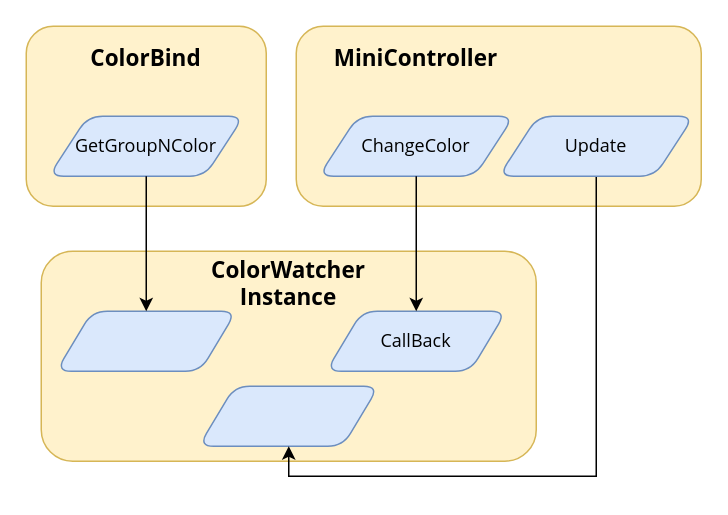
Some shapes in this 728 by 515 pixel diagram are drawn without their labels. Each missing label, with the box of its shape:
GetColorValue: (55, 310, 236, 371)
Watch: (197, 385, 379, 446)
